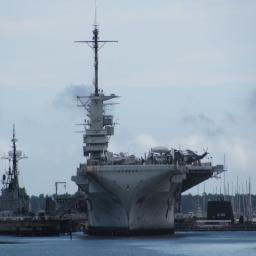Portanaves: (73, 1, 220, 240)
